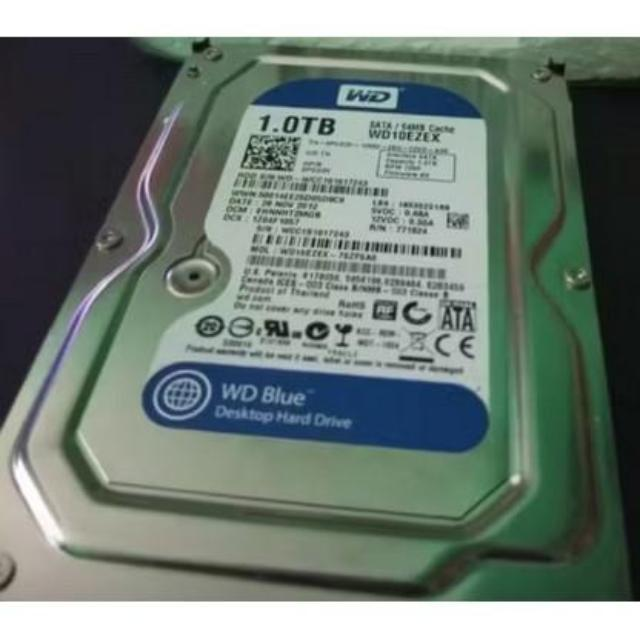DISK: (3, 35, 623, 620)
